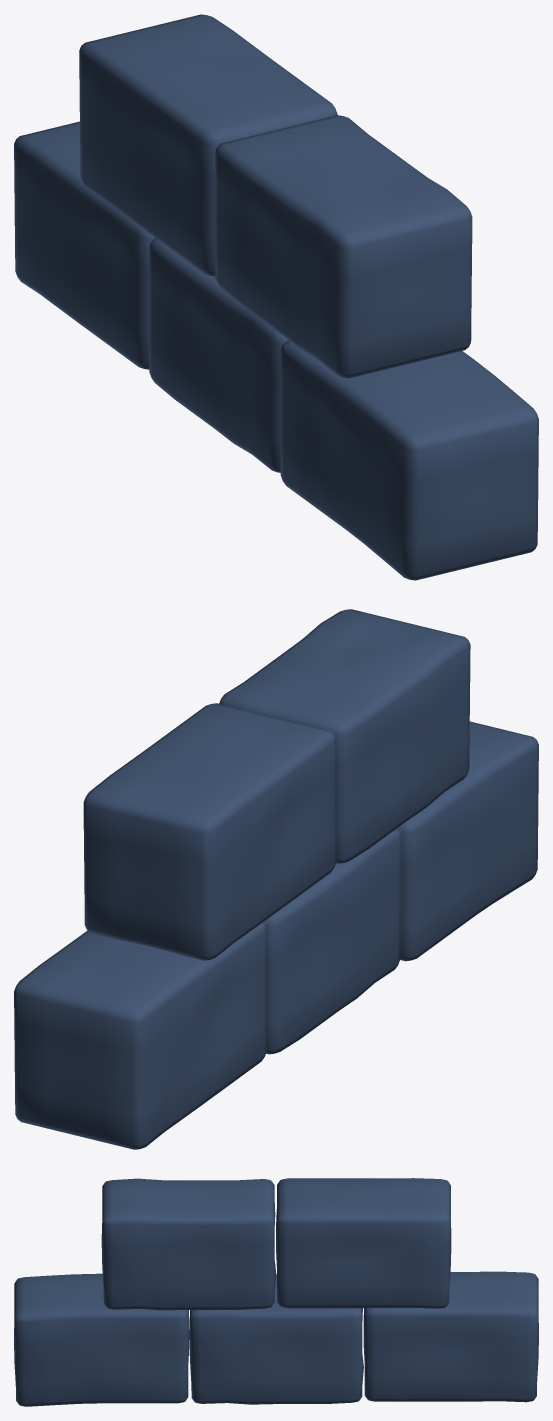
Rendered from bricks-1.obj.
The picture shows the model from 3 angles, top to bottom: view 1: azimuth 30°, elevation 25°; view 2: azimuth 150°, elevation 25°; view 3: azimuth 270°, elevation 25°; orthographic projection. The views are drawn at different scales.
Parts seen in each view (by area): view 1: Cube.002, Cube, Cube.004, Cube.003, Cube.001; view 2: Cube.004, Cube.003, Cube.002, Cube, Cube.001; view 3: Cube.004, Cube.002, Cube, Cube.003, Cube.001.
Boxes of the visible parts, x1,y1,x2,y2 form: Cube.002: [215, 115, 472, 378]; Cube: [280, 340, 538, 580]; Cube.004: [79, 14, 337, 276]; Cube.003: [14, 121, 154, 369]; Cube.001: [149, 238, 288, 472]; Cube.004: [83, 703, 336, 960]; Cube.003: [14, 922, 266, 1149]; Cube.002: [219, 609, 470, 863]; Cube: [397, 721, 538, 961]; Cube.001: [264, 828, 401, 1054]; Cube.004: [276, 1178, 451, 1308]; Cube.002: [101, 1178, 276, 1310]; Cube: [14, 1273, 189, 1406]; Cube.003: [363, 1271, 538, 1402]; Cube.001: [189, 1274, 363, 1404].
Size of the model in its own units: 0.184 by 0.371 by 0.9087.
